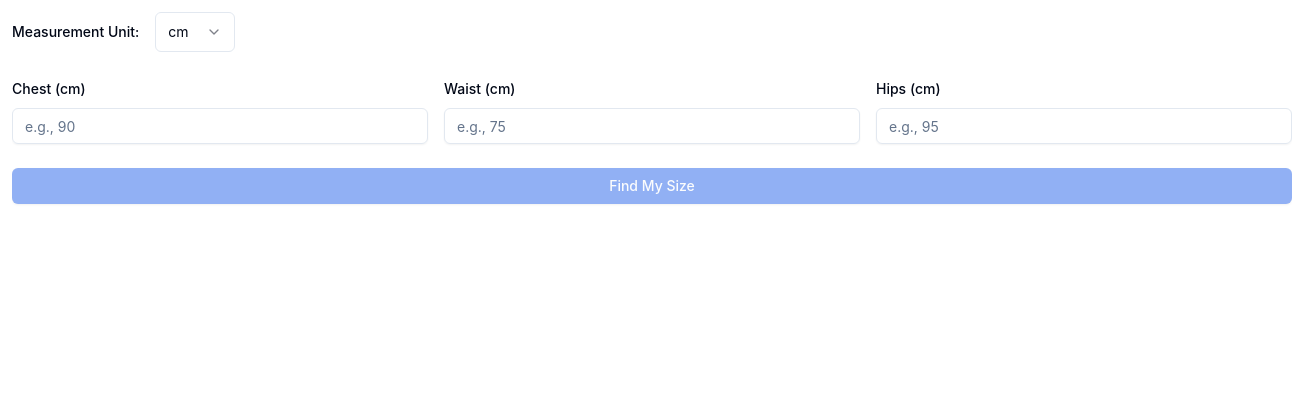
FitFinder › should find size based on waist measurement
Type "65" into the number field with test id "input-waist" at (652, 126), box [444,108,860,144]
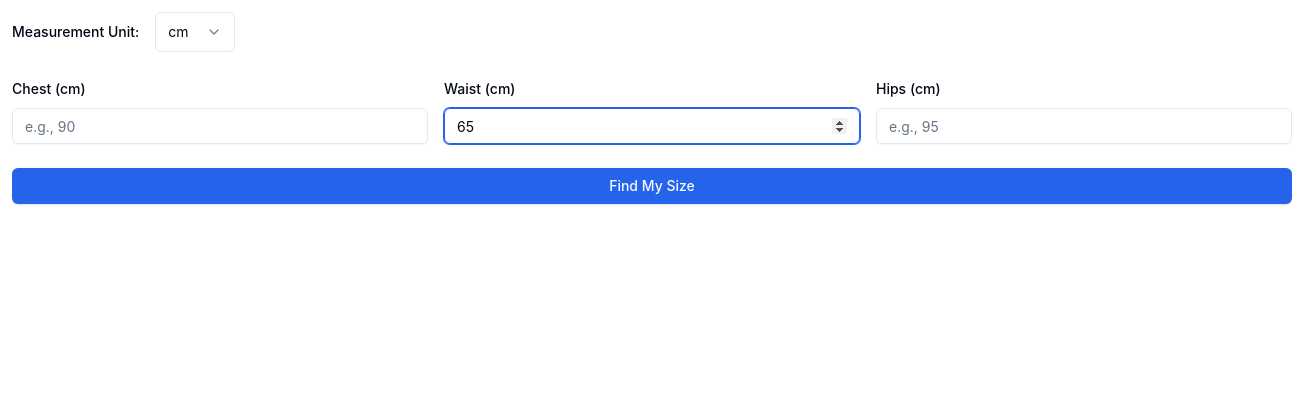
Click the button with test id "find-size-button" at (652, 186), box [12,168,1292,204]
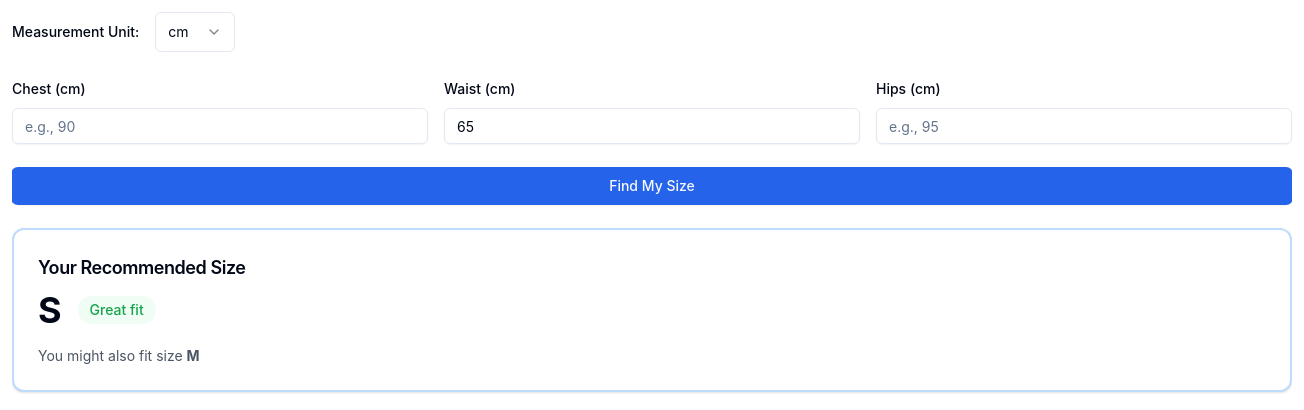
Expected: the text with test id "recommended-size" reads "S", [38,288,62,332]
